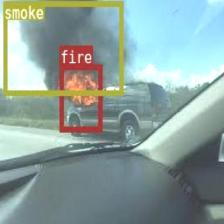fire: (59, 64, 101, 130)
smoke: (2, 0, 122, 94)
